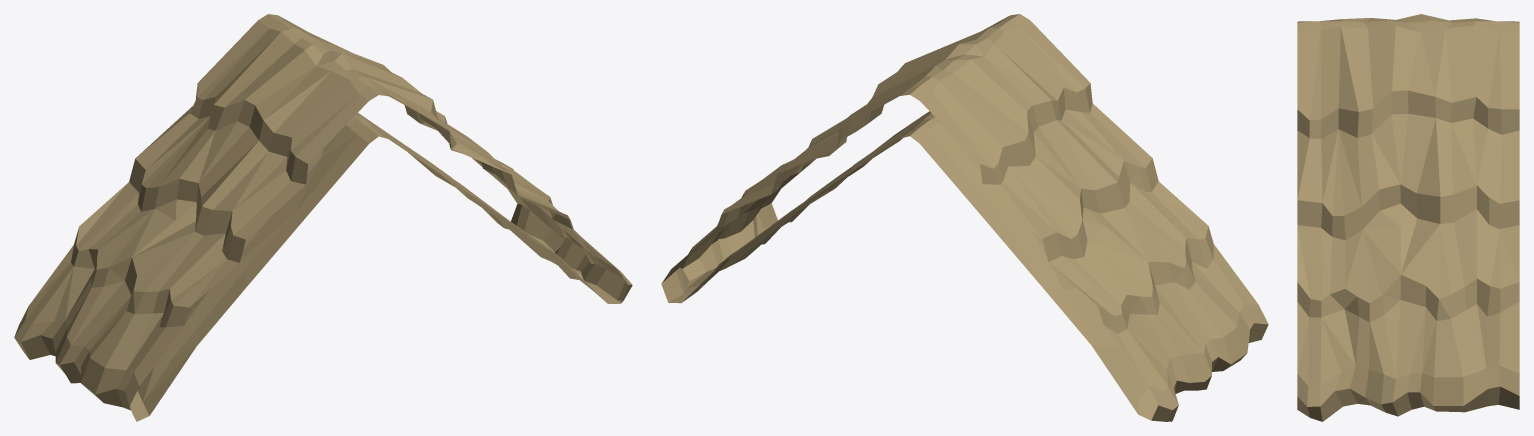
File: rpgpp_ag_roof_02a_6x3x3.fbx
3 renders of one model, left to right at view 1: azimuth 30°, elevation 25°; view 2: azimuth 150°, elevation 25°; view 3: azimuth 270°, elevation 25°, orthographic.
Visible parts, largest first — view 1: rpgpp_ag_roof_02a_6x3x3; view 2: rpgpp_ag_roof_02a_6x3x3; view 3: rpgpp_ag_roof_02a_6x3x3.
Part boxes in pixels (x1,y1,x2,y2): rpgpp_ag_roof_02a_6x3x3: (14, 14, 632, 421); rpgpp_ag_roof_02a_6x3x3: (661, 14, 1268, 421); rpgpp_ag_roof_02a_6x3x3: (1297, 14, 1519, 421).
Size of the model in its own units: 8.1 by 4.16 by 3.
